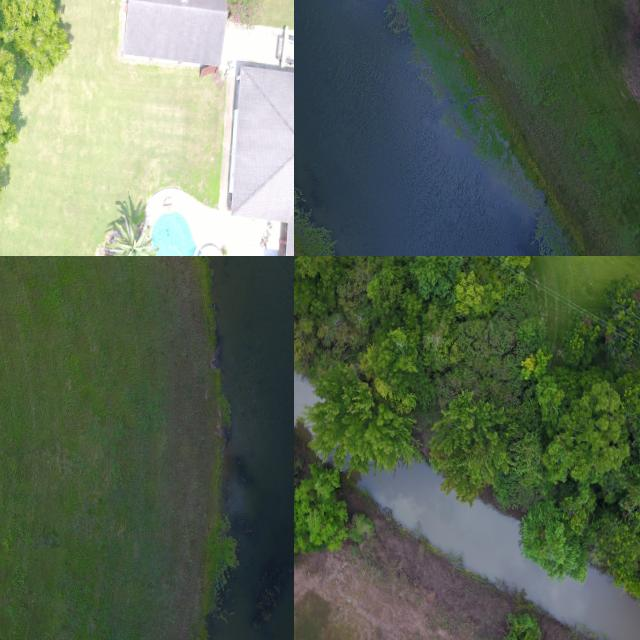fire: (294, 0, 540, 256), (359, 462, 640, 640), (208, 256, 294, 640)
